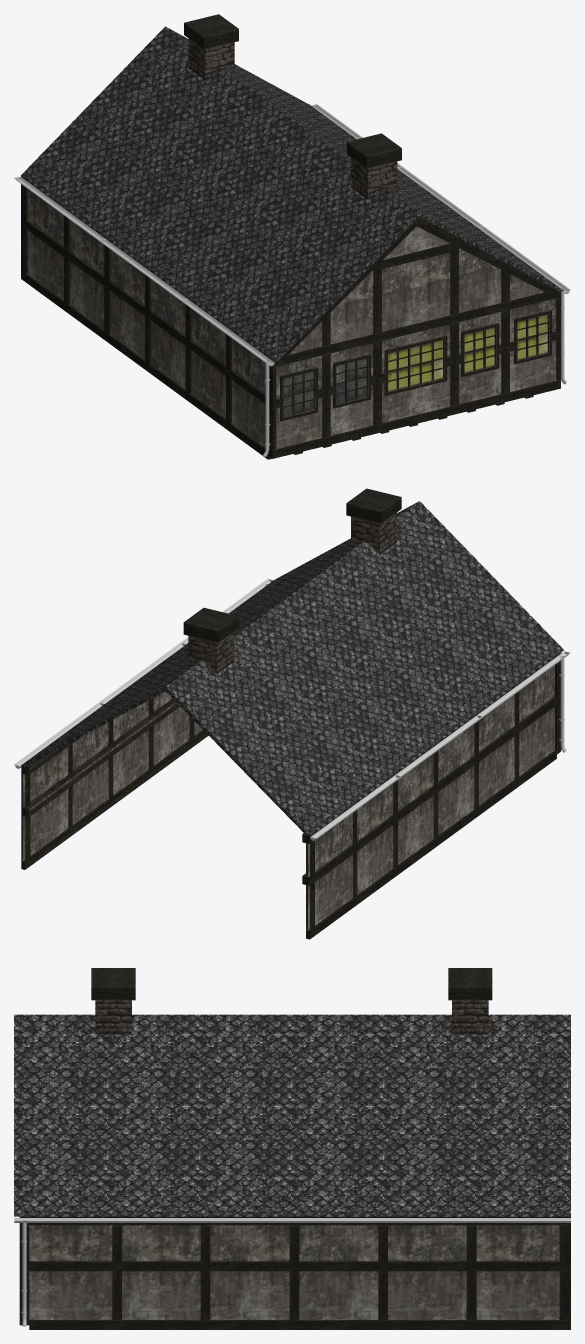
Rendered from pubroof02_lit_02.DAE.
3 renders of one model, top to bottom at view 1: azimuth 30°, elevation 25°; view 2: azimuth 150°, elevation 25°; view 3: azimuth 270°, elevation 25°, orthographic. The views are drawn at different scales.
Parts seen in each view (by area): view 1: Object137, Object139, Object136, Object140, Object142, Box052, Object138; view 2: Object137, Object139, Object136, Object140, Box052; view 3: Object137, Object139, Object136, Object140, Box052.
Boxes of the visible parts, <box> form: Object137: <box>21,26,563,361</box>; Object139: <box>28,189,556,448</box>; Object136: <box>21,14,560,459</box>; Object140: <box>14,104,570,424</box>; Object142: <box>388,314,547,390</box>; Box052: <box>188,39,397,199</box>; Object138: <box>283,359,366,416</box>; Object137: <box>21,501,563,835</box>; Object139: <box>23,665,554,930</box>; Object136: <box>21,488,561,939</box>; Object140: <box>14,578,570,840</box>; Box052: <box>188,513,396,673</box>; Object137: <box>14,1014,570,1216</box>; Object139: <box>29,1225,559,1319</box>; Object136: <box>19,968,570,1329</box>; Object140: <box>14,1218,570,1290</box>; Box052: <box>95,1000,488,1037</box>.
Size of the model in its own units: 13.02 by 10.3 by 18.88.
